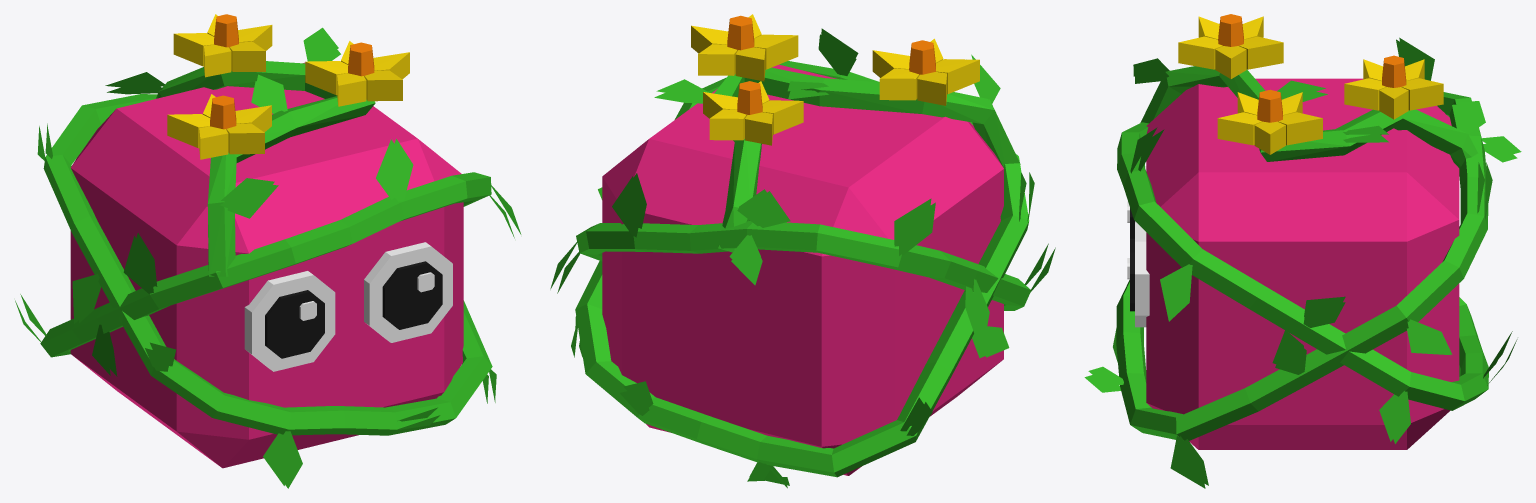
File: Viney.fbx
3 views of the same model, side by side, from view 1: azimuth 30°, elevation 25°; view 2: azimuth 150°, elevation 25°; view 3: azimuth 270°, elevation 25° (orthographic). The views are drawn at different scales.
Parts seen in each view (by area): view 1: Viney, Viney_Vines, Viney_Flower_Petals, Viney_Eyes, Viney_Pupils, Viney_Flower_Centers; view 2: Viney, Viney_Vines, Viney_Flower_Petals, Viney_Flower_Centers; view 3: Viney, Viney_Vines, Viney_Flower_Petals, Viney_Flower_Centers, Viney_Eyes, Viney_Pupils.
Boxes of the visible parts, left/top/right/bottom form: Viney: left=70, top=62, right=463, bottom=468; Viney_Vines: left=15, top=27, right=521, bottom=488; Viney_Flower_Petals: left=167, top=14, right=409, bottom=159; Viney_Eyes: left=244, top=242, right=452, bottom=371; Viney_Pupils: left=265, top=261, right=442, bottom=358; Viney_Flower_Centers: left=210, top=14, right=374, bottom=129; Viney: left=602, top=64, right=1003, bottom=475; Viney_Vines: left=550, top=28, right=1055, bottom=488; Viney_Flower_Petals: left=691, top=14, right=979, bottom=145; Viney_Flower_Centers: left=727, top=15, right=935, bottom=115; Viney: left=1146, top=78, right=1459, bottom=449; Viney_Vines: left=1084, top=37, right=1521, bottom=488; Viney_Flower_Petals: left=1178, top=16, right=1443, bottom=154; Viney_Flower_Centers: left=1218, top=14, right=1406, bottom=122; Viney_Eyes: left=1127, top=166, right=1149, bottom=327; Viney_Pupils: left=1130, top=208, right=1134, bottom=311.
Size of the model in its own units: 2.6 by 2.34 by 2.68.
